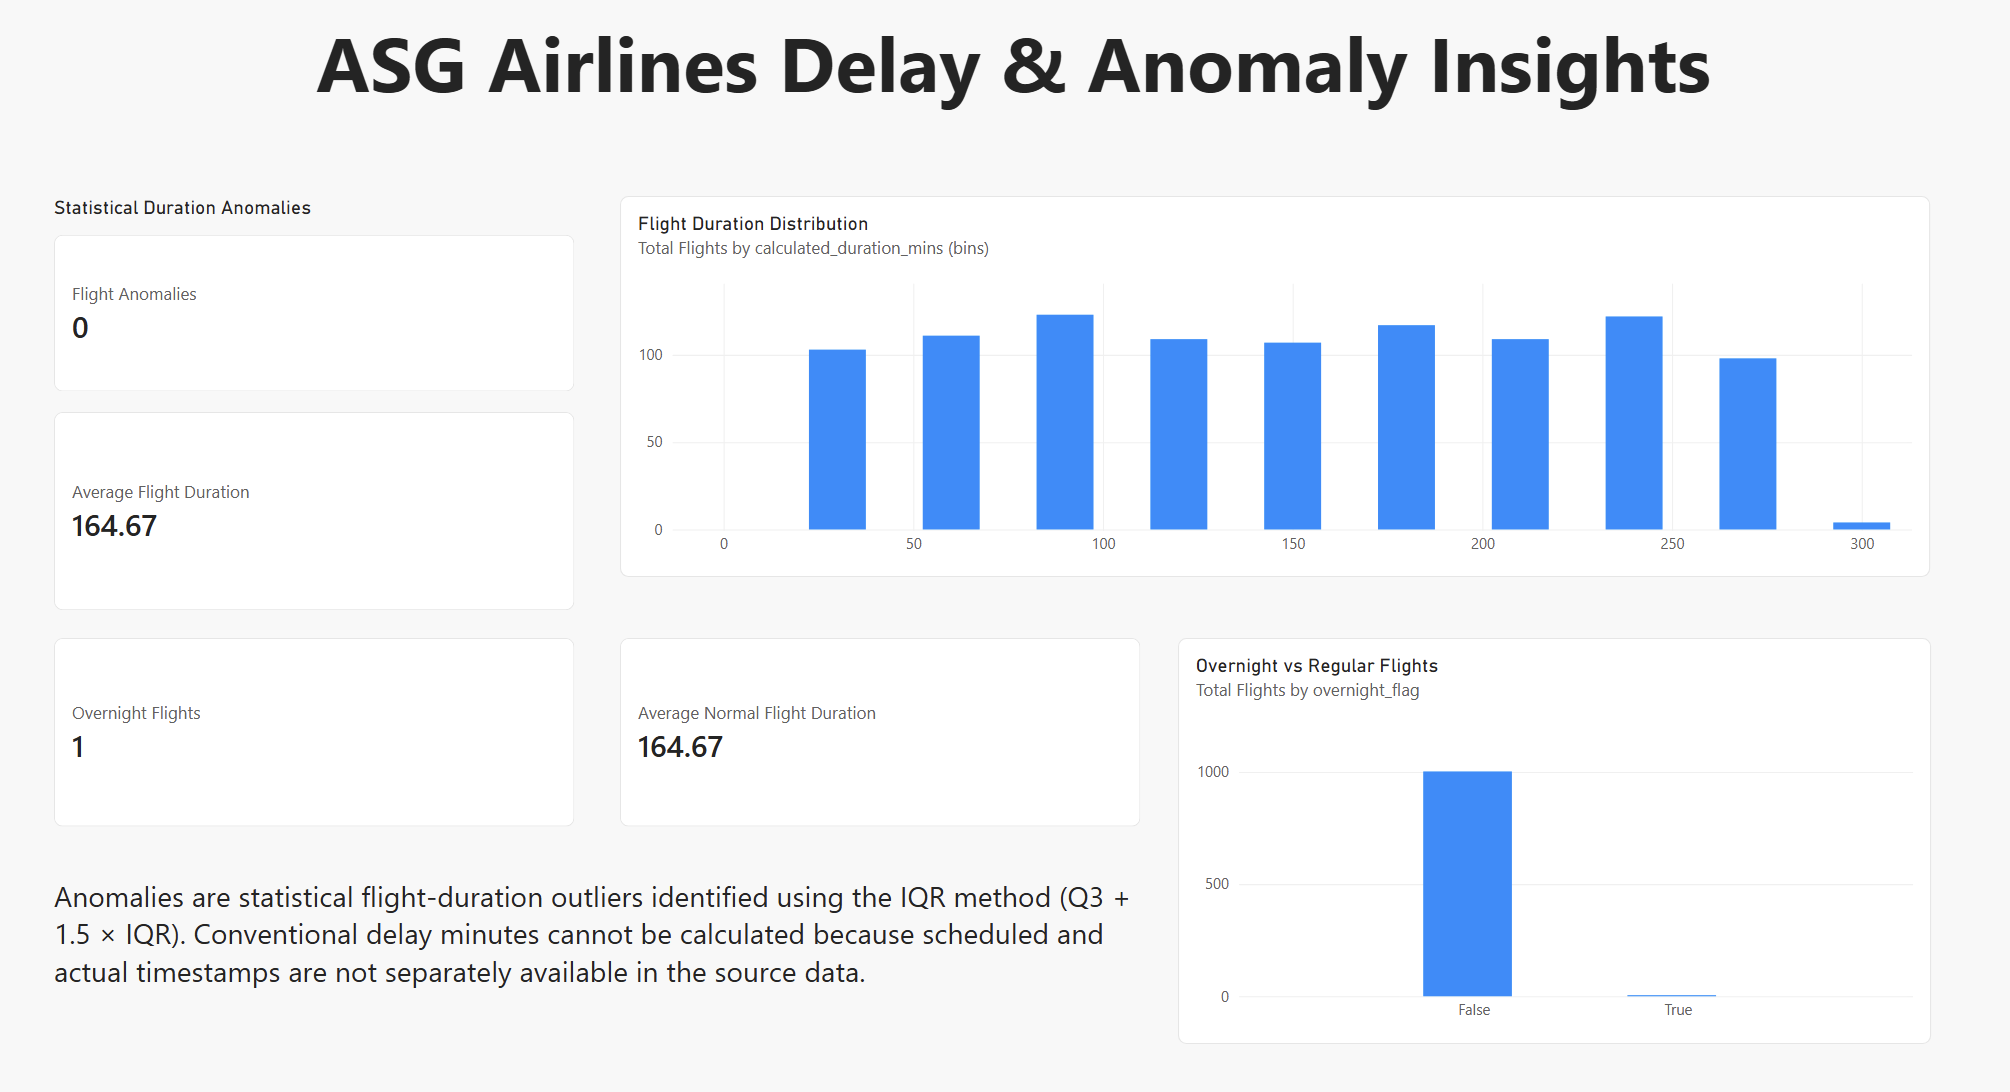

Layout of this report page (visuals, bound fields, positions):
{"tool":"powerbi","page":{"name":"Delay & Anomaly Insights","canvas":[1920,1080],"ordinal":4},"visuals":[{"type":"textbox","box":[10.6,21.3,1908.5,261.7],"z":0},{"type":"cardVisual","title":"Statistical Duration Anomalies","fields":{"Data":["_Measures.Flight Anomalies"]},"box":[59.6,195.7,491.5,185.1],"z":1000},{"type":"cardVisual","fields":{"Data":["_Measures.Average Flight Duration"]},"box":[59.6,400,491.5,187.2],"z":2000},{"type":"cardVisual","fields":{"Data":["_Measures.Overnight Flights"]},"box":[59.6,612.8,491.5,178.7],"z":3000},{"type":"textbox","box":[59.6,838.3,1025.5,157.4],"z":4000},{"type":"clusteredColumnChart","title":"Flight Duration Distribution","fields":{"Category":["fact_flights.calculated_duration_mins (bins)"],"Y":["_Measures.Total Flights"]},"box":[593.6,195.7,1236.2,359.6],"z":5000},{"type":"cardVisual","fields":{"Data":["_Measures.Average Normal Flight Duration"]},"box":[593.6,612.8,491.5,178.7],"z":6000},{"type":"clusteredColumnChart","title":"Overnight vs Regular Flights","fields":{"Category":["fact_flights.overnight_flag"],"Y":["_Measures.Total Flights"]},"box":[1121.3,612.8,710.6,383],"z":7000}]}

Visuals, with their boxes on the page's 1920x1080 design canvas (x1, y1, x2, y2). These are canvas units, not pixel positions in the 2010x1092 screenshot, which may show the page scaled, cropped or inside an application window:
textbox: x1=11, y1=21, x2=1919, y2=283
"Statistical Duration Anomalies" cardVisual: x1=60, y1=196, x2=551, y2=381
cardVisual - _Measures.Average Flight Duration: x1=60, y1=400, x2=551, y2=587
cardVisual - _Measures.Overnight Flights: x1=60, y1=613, x2=551, y2=792
textbox: x1=60, y1=838, x2=1085, y2=996
"Flight Duration Distribution" clusteredColumnChart: x1=594, y1=196, x2=1830, y2=555
cardVisual - _Measures.Average Normal Flight Duration: x1=594, y1=613, x2=1085, y2=792
"Overnight vs Regular Flights" clusteredColumnChart: x1=1121, y1=613, x2=1832, y2=996
